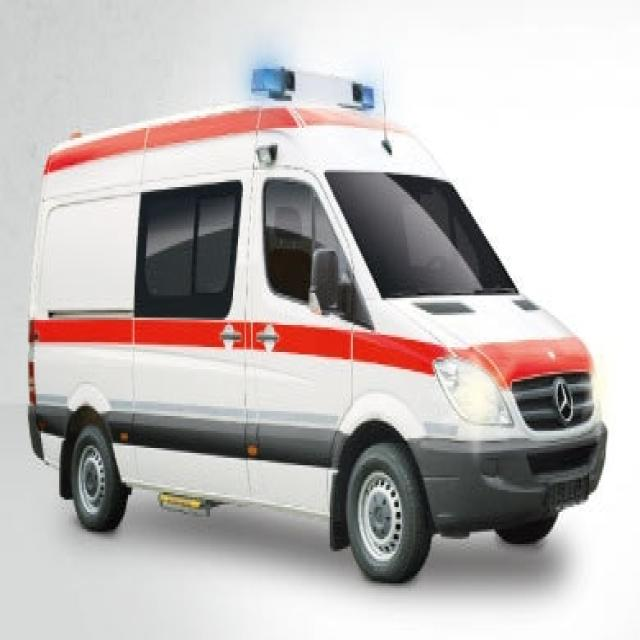emergency: (27, 69, 607, 582)
